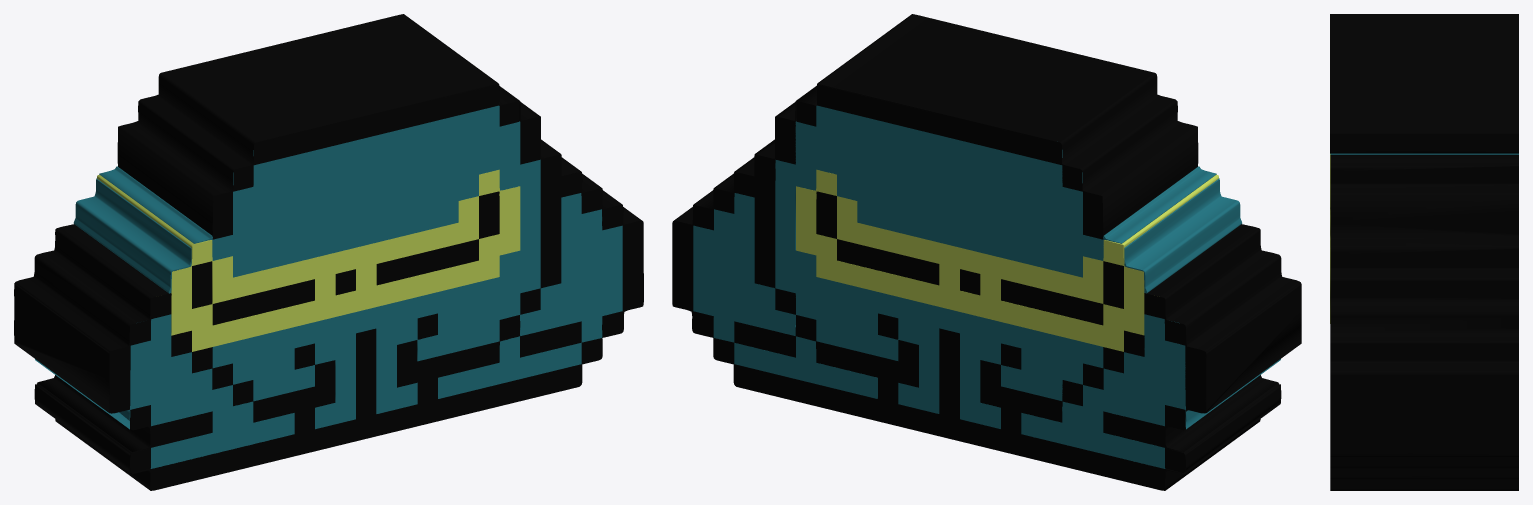
File: Toadz_5510.glb
3 renders of one model, left to right at view 1: azimuth 30°, elevation 25°; view 2: azimuth 150°, elevation 25°; view 3: azimuth 270°, elevation 25°, orthographic.
Visible parts, largest first — view 1: Curve; view 2: Curve; view 3: Curve.
Boxes of the visible parts, bbox=[...] form: Curve: bbox=[14, 14, 643, 490]; Curve: bbox=[672, 14, 1301, 490]; Curve: bbox=[1330, 14, 1518, 490].
Size of the model in its own units: 3.24 by 1.87 by 1.
